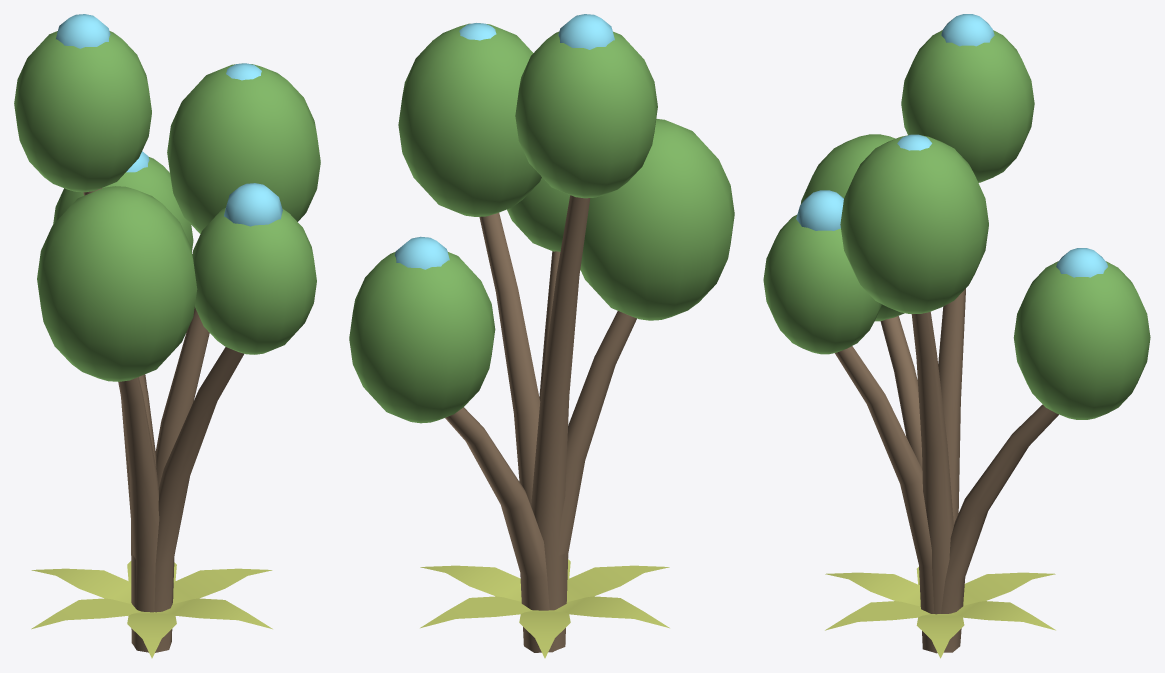
Rendered from tree_bulb.fbx.
The picture shows the model from 3 angles, left to right: view 1: azimuth 30°, elevation 25°; view 2: azimuth 150°, elevation 25°; view 3: azimuth 270°, elevation 25°; orthographic projection. The views are drawn at different scales.
Visible parts, largest first — view 1: tree_bulb_LOD0; view 2: tree_bulb_LOD0; view 3: tree_bulb_LOD0.
Boxes of the visible parts, left/top/right/bottom form: tree_bulb_LOD0: left=14, top=14, right=320, bottom=658; tree_bulb_LOD0: left=349, top=14, right=734, bottom=658; tree_bulb_LOD0: left=763, top=14, right=1150, bottom=658.
Size of what is drawn, in the model's own units: 3.45 by 7.39 by 4.29.
